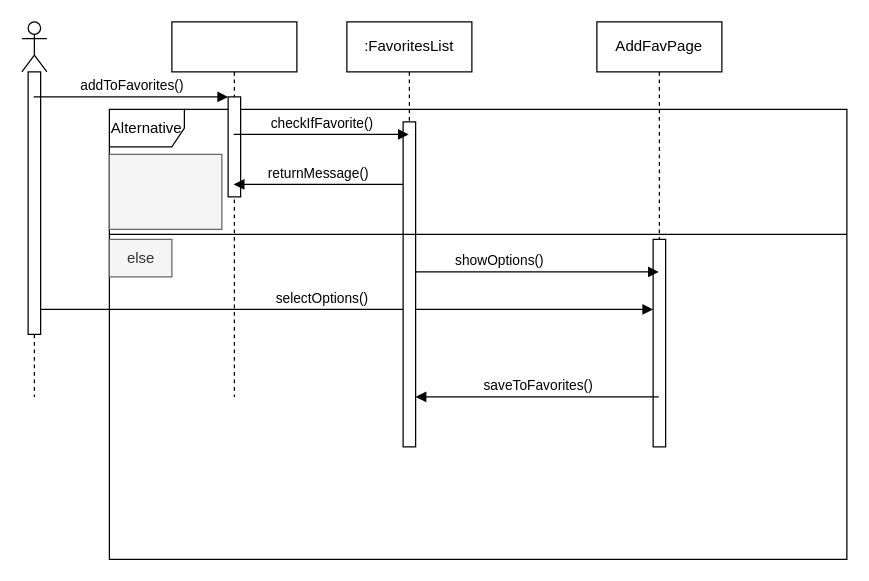
This 869x581 diagram has some shape labels left out. The shapes that lost their labels are listed below. From the top down, each one's centre as x and y in pixels, then its label:
At pixel 165 191: "If location is already in favorites".
At pixel 234 209: "locationPage".
